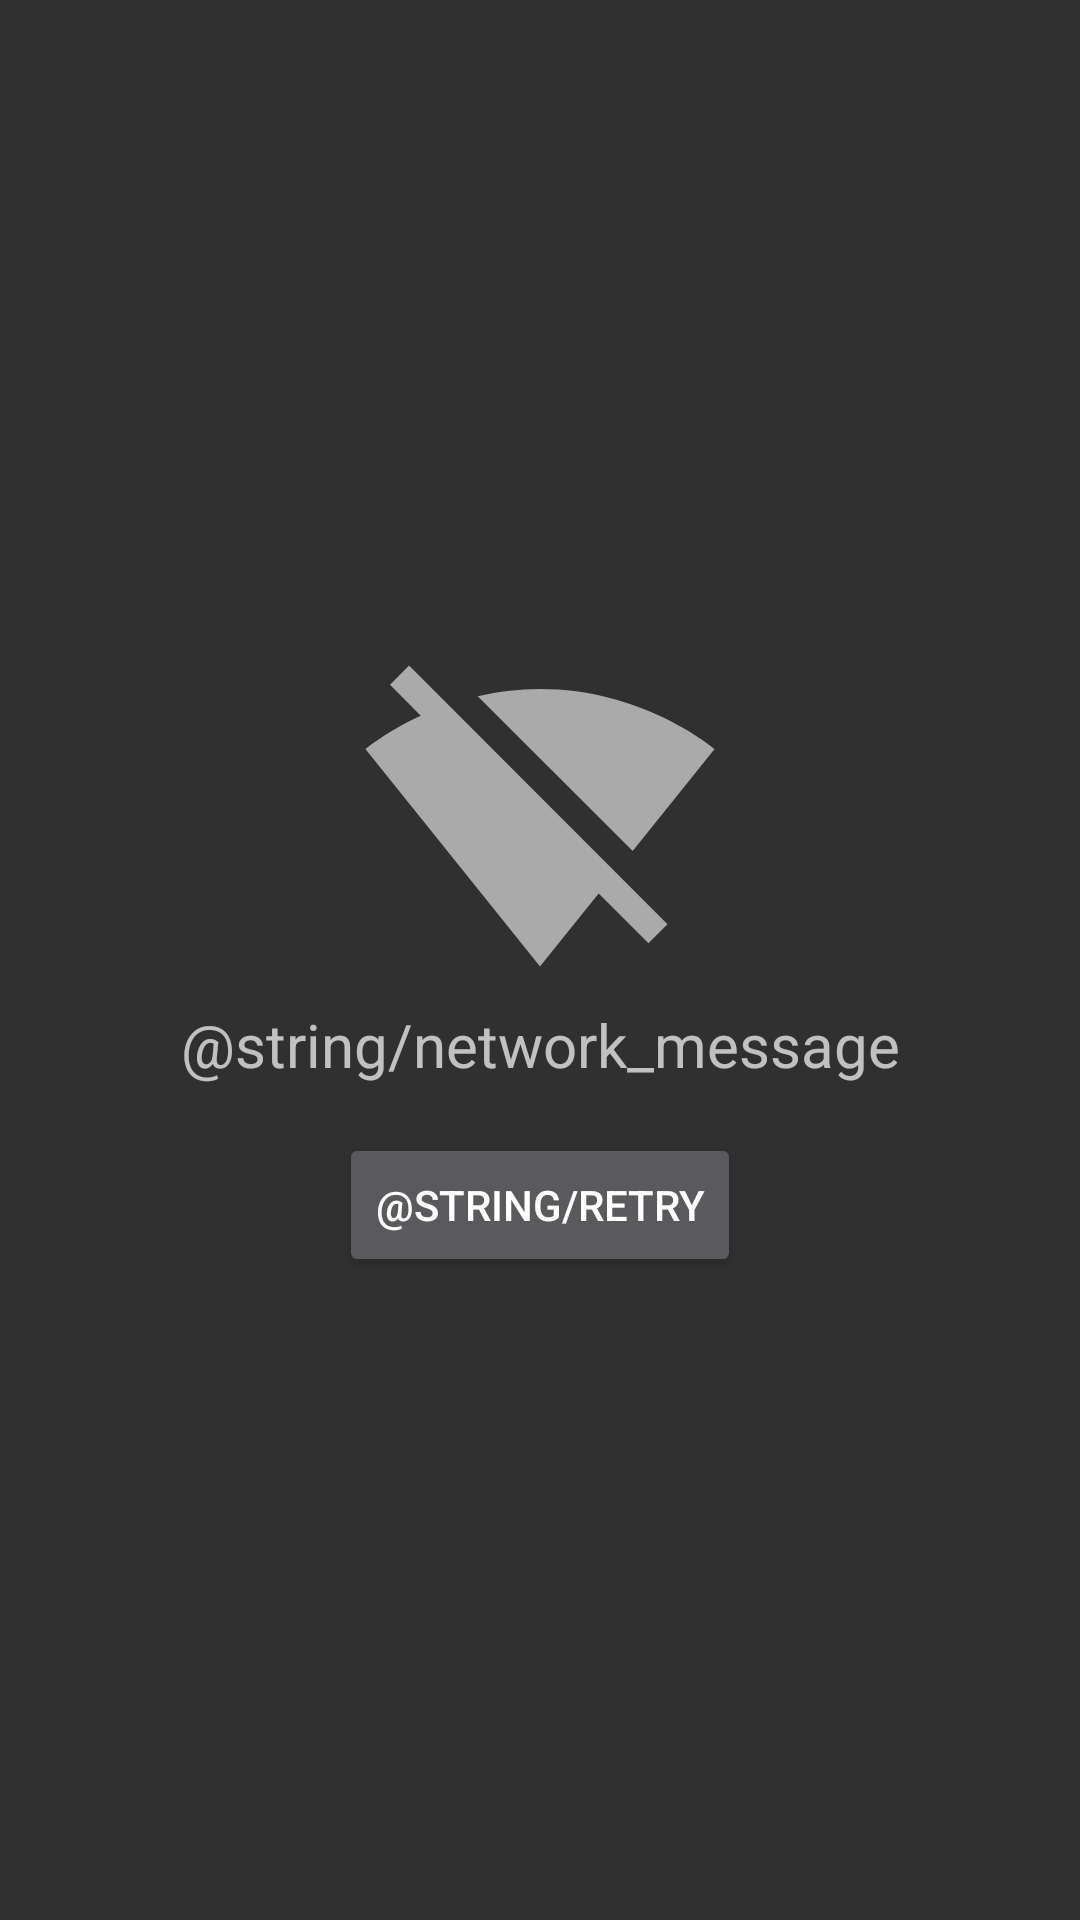

Icons on this 1080w x 1920h Android screen, each with its box as bbox(x1, y1, x2, y2):
signal off: bbox(365, 666, 715, 966)
